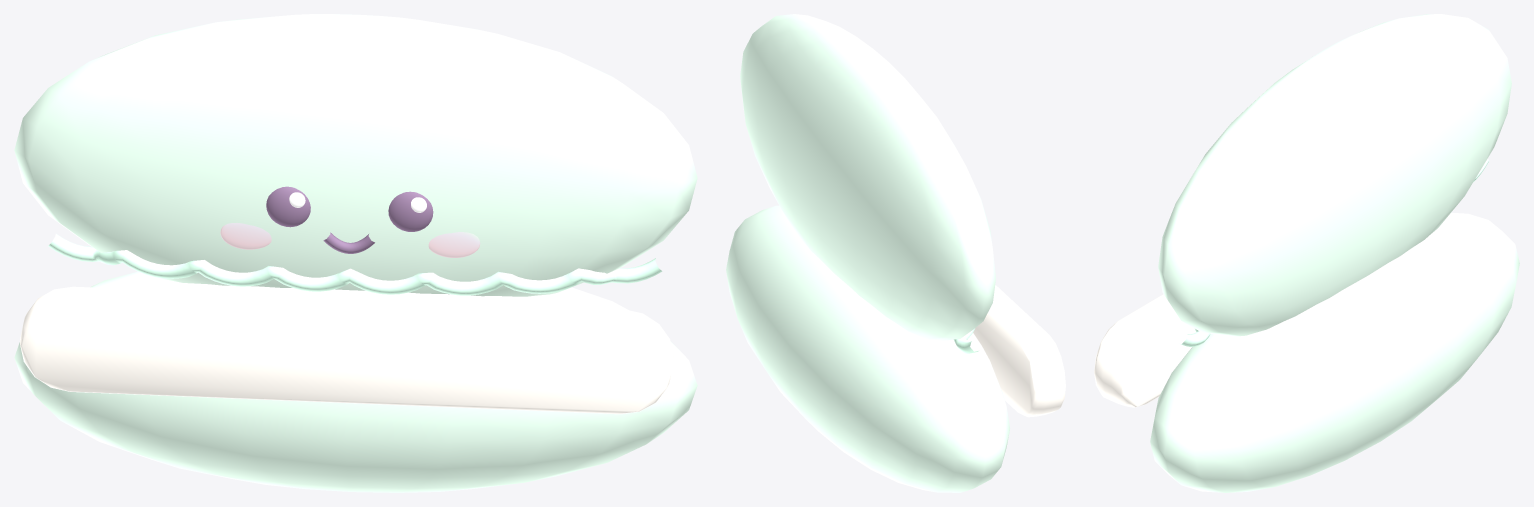
The model's file is life_macaron.glb.
3 renders of one model, left to right at view 1: azimuth 30°, elevation 25°; view 2: azimuth 150°, elevation 25°; view 3: azimuth 270°, elevation 25°, orthographic. The views are drawn at different scales.
Parts seen in each view (by area): view 1: wrap_macaron_1, object 3, object 1; view 2: wrap_macaron_1; view 3: wrap_macaron_1.
Part boxes in pixels (bbox=[...]): wrap_macaron_1: bbox=[14, 14, 697, 492]; object 3: bbox=[388, 191, 433, 231]; object 1: bbox=[266, 186, 310, 227]; wrap_macaron_1: bbox=[726, 14, 1065, 492]; wrap_macaron_1: bbox=[1094, 14, 1519, 492].
Bounding box in the file's own units: 2.54 × 2.12 × 2.05.
